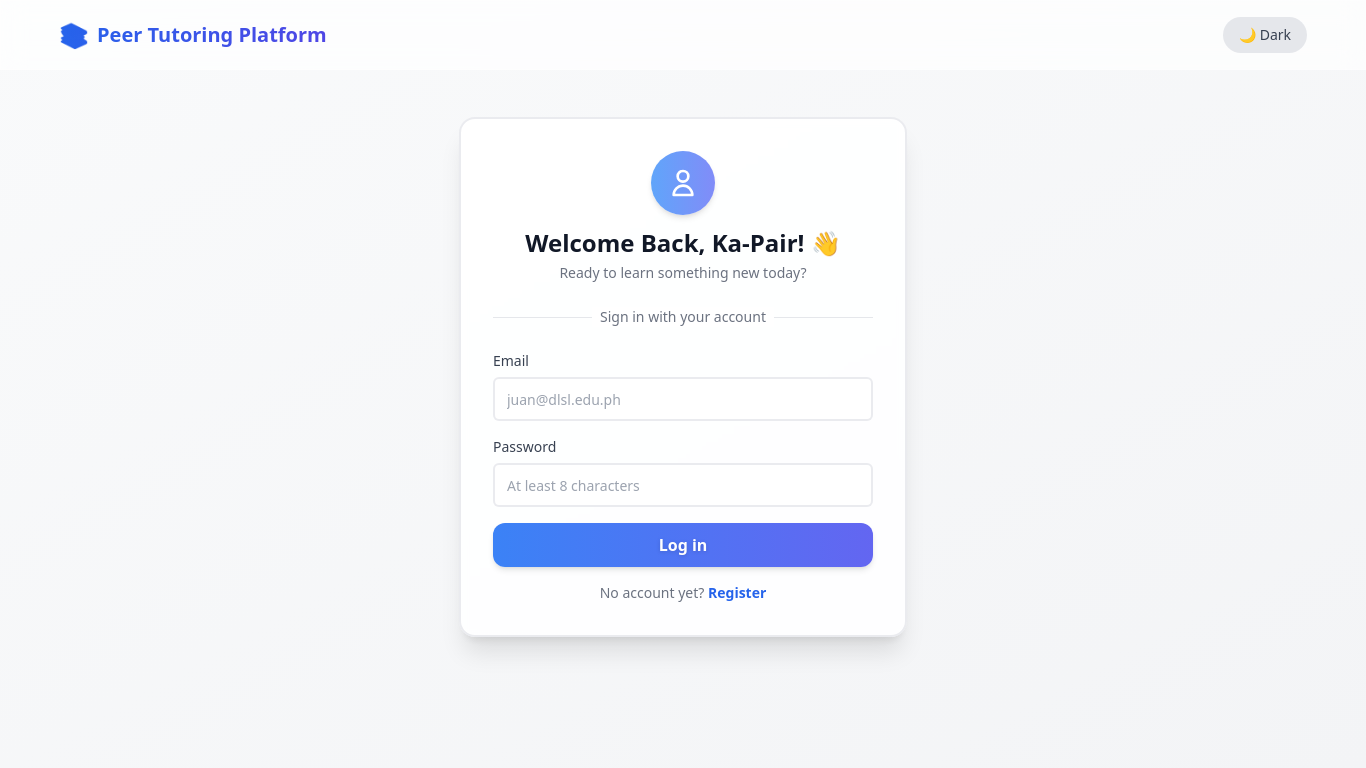
Scenario: LoginPage › shows validation messages when empty
Click the button "Log in". click: (683, 545)
box: [493, 523, 873, 567]
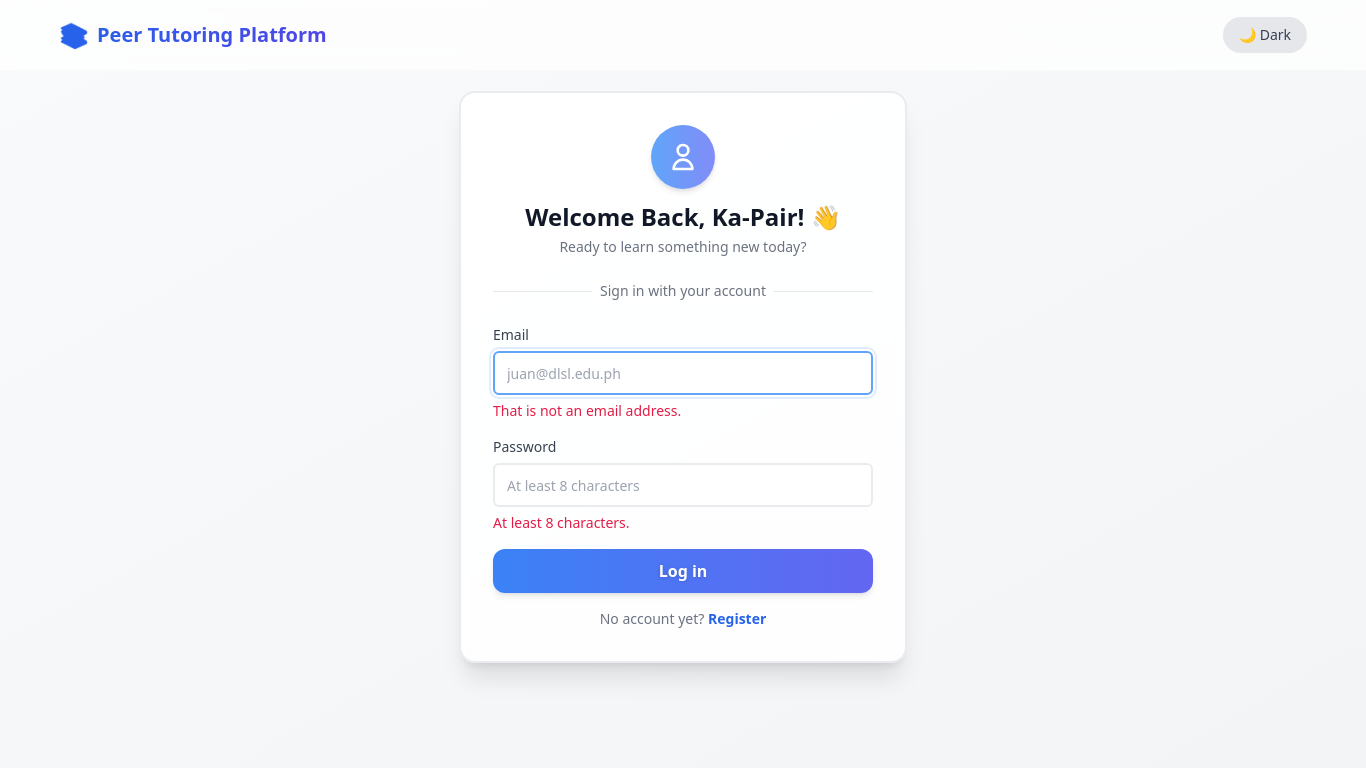
Result: the text "That is not an email address." is shown at [493, 401, 681, 420]
Result: the text "At least 8 characters." is shown at [493, 513, 630, 532]
